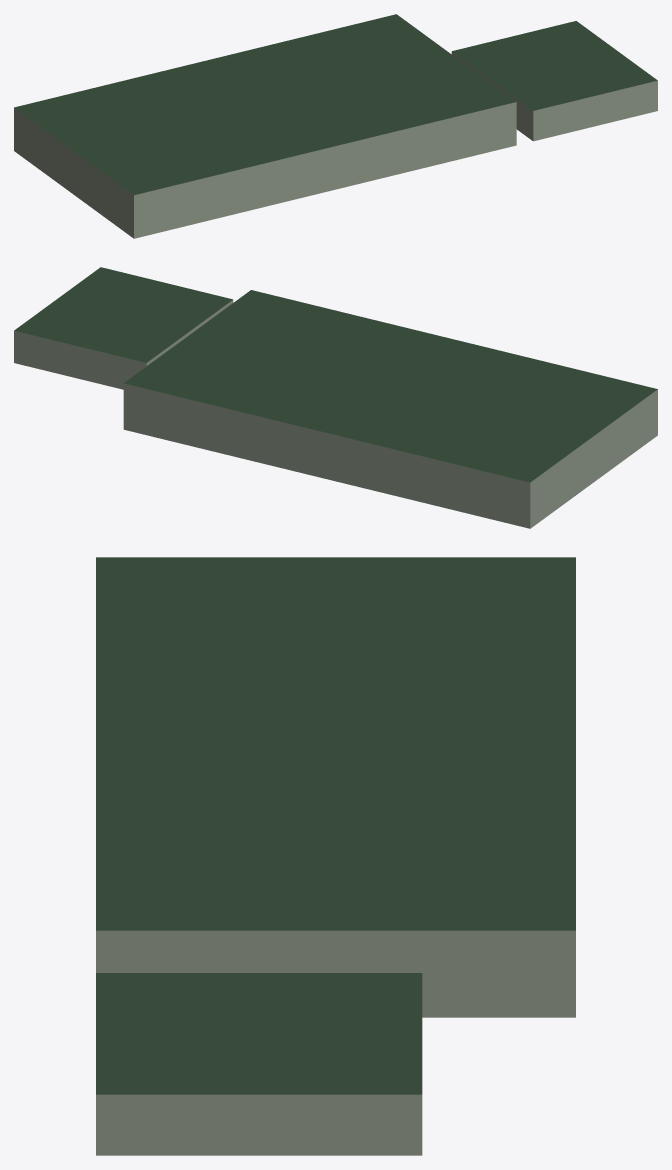
File: sports-low.glb
The picture shows the model from 3 angles, top to bottom: view 1: azimuth 30°, elevation 25°; view 2: azimuth 150°, elevation 25°; view 3: azimuth 270°, elevation 25°; orthographic projection. The views are drawn at different scales.
Bounding box in the file's own units: 126 × 10 × 50.
